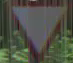Give way: (3, 2, 66, 55)
